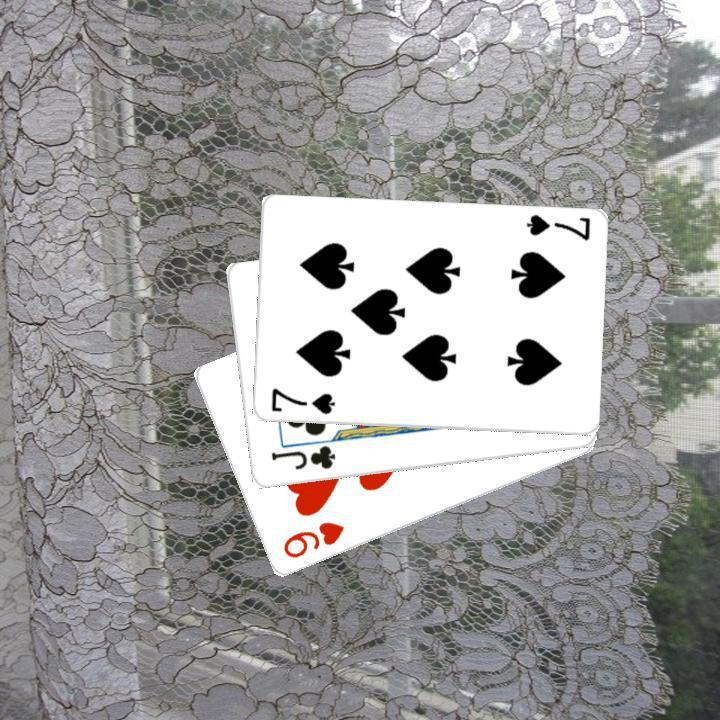7: (266, 384, 336, 417), (521, 211, 592, 243)
9: (278, 518, 346, 561)
J: (266, 442, 337, 473)
